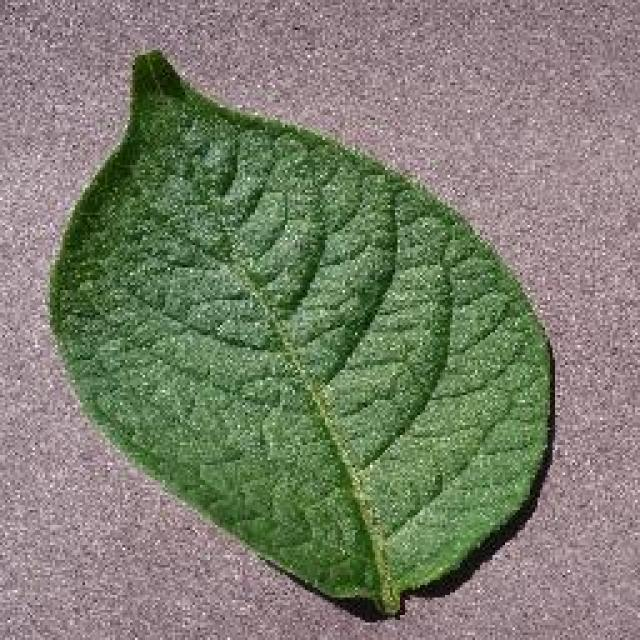Potato: (45, 45, 555, 617)
